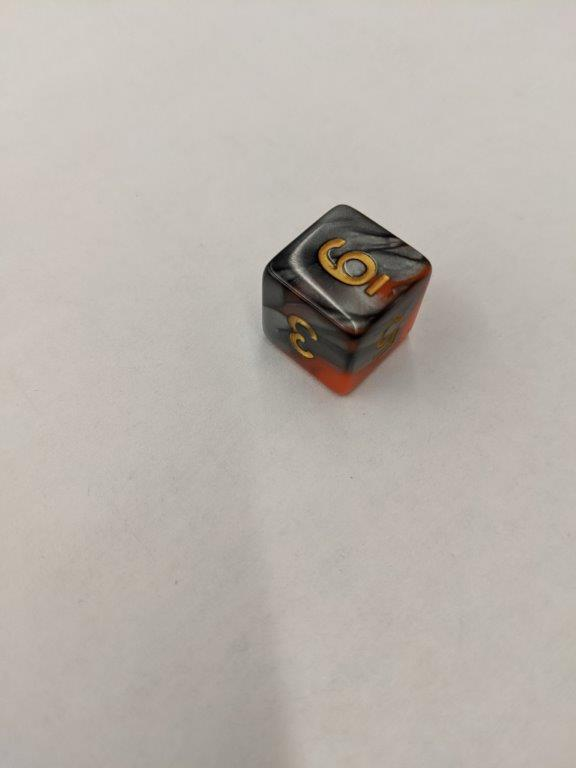d6-6: (263, 202, 433, 398)
